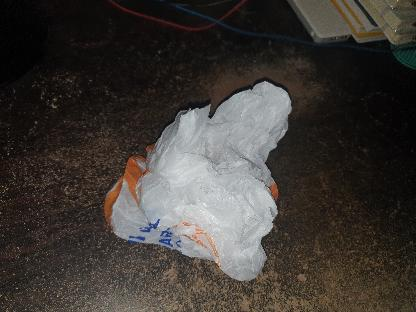Plastic Bag: (99, 80, 300, 280)
